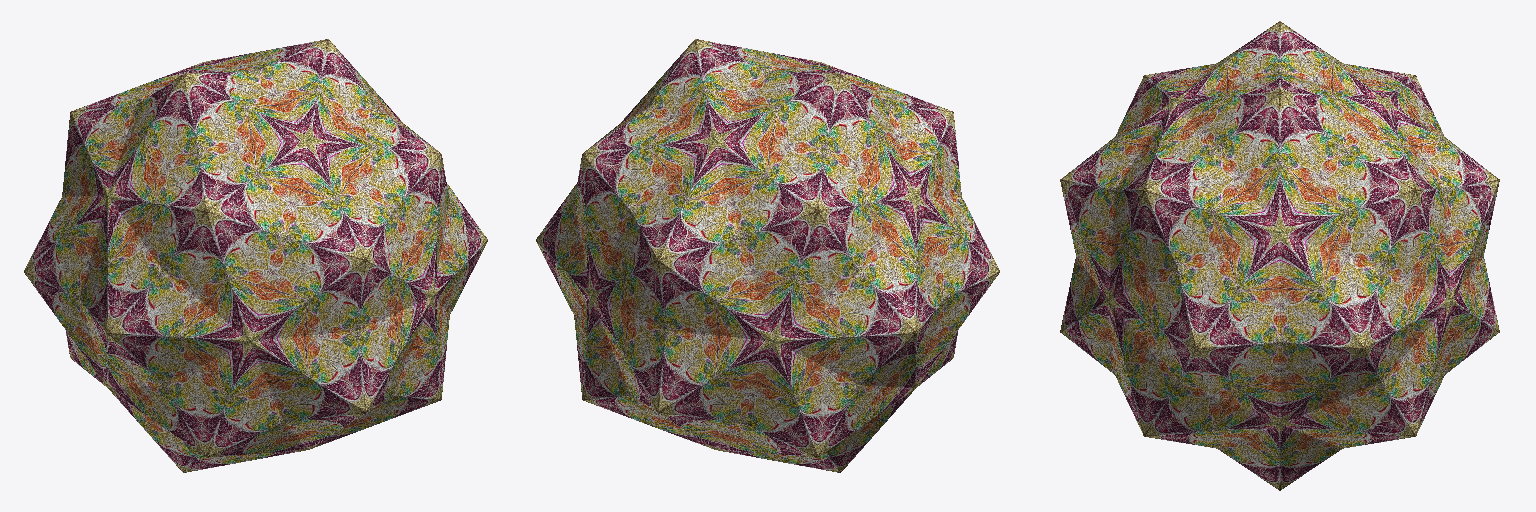
3 views of the same model, side by side, from view 1: azimuth 30°, elevation 25°; view 2: azimuth 150°, elevation 25°; view 3: azimuth 270°, elevation 25° (orthographic).
Bounding box in the file's own units: 3.62 × 3.62 × 3.62.
1 materials, 1 textured.